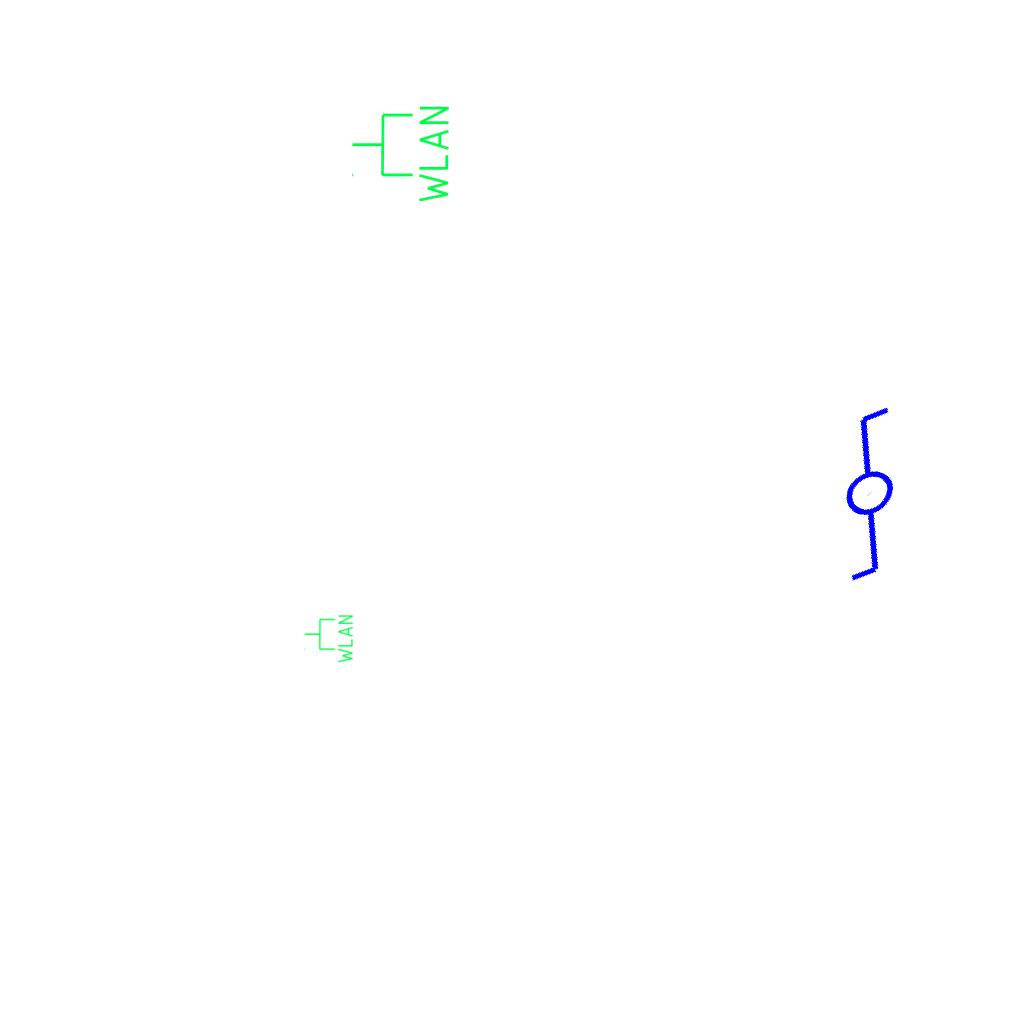WLAN: (349, 102, 453, 207), (303, 613, 355, 665)
Wechselschalter: (771, 385, 984, 595)
